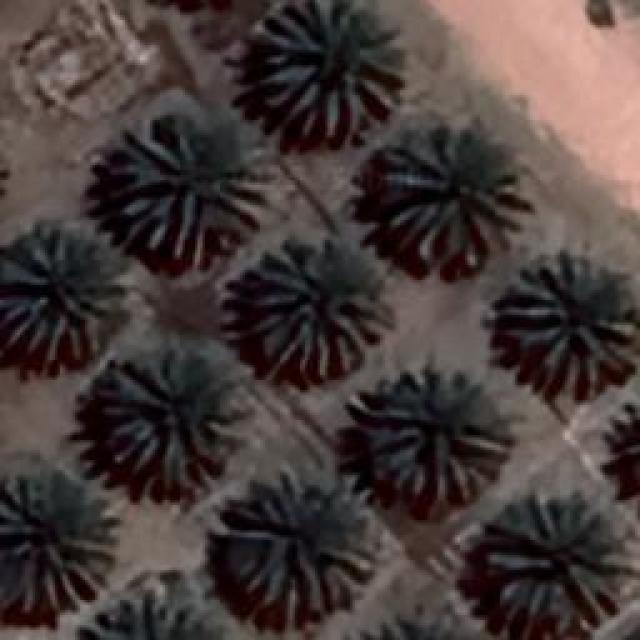PalmTree: (220, 465, 378, 620), (112, 112, 268, 268), (374, 127, 528, 270), (240, 240, 390, 382), (360, 365, 510, 505), (255, 0, 400, 140), (92, 350, 232, 495), (500, 255, 635, 398), (0, 222, 128, 368), (482, 495, 620, 623), (0, 470, 118, 615), (91, 585, 229, 640), (328, 600, 491, 640)
